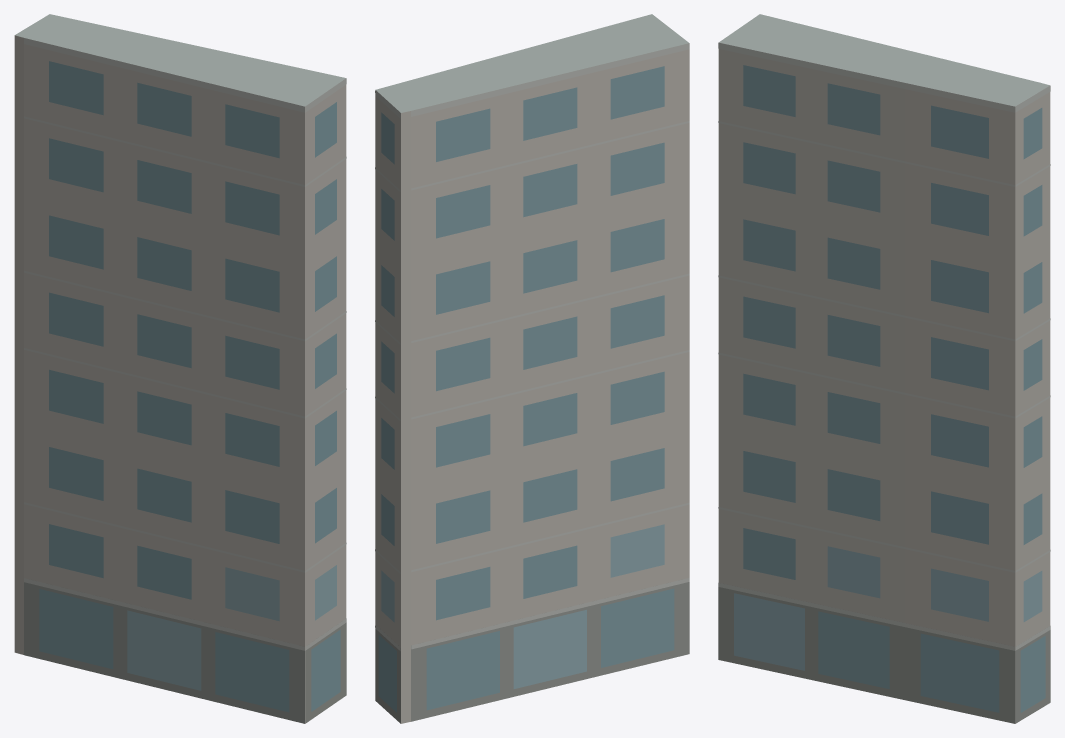
File: survey-upis-32734044.glb
3 renders of one model, left to right at view 1: azimuth 90°, elevation 25°; view 2: azimuth 150°, elevation 25°; view 3: azimuth 270°, elevation 25°, orthographic.
Parts seen in each view (by area): view 1: survey-upis-32734044.tmp; view 2: survey-upis-32734044.tmp; view 3: survey-upis-32734044.tmp.
Part boxes in pixels (box(x1,y1,x2,y2)): survey-upis-32734044.tmp: box(14, 14, 346, 723); survey-upis-32734044.tmp: box(375, 14, 689, 723); survey-upis-32734044.tmp: box(718, 14, 1050, 723).
Bounding box in the file's own units: 7.87 × 24.4 × 11.91.
